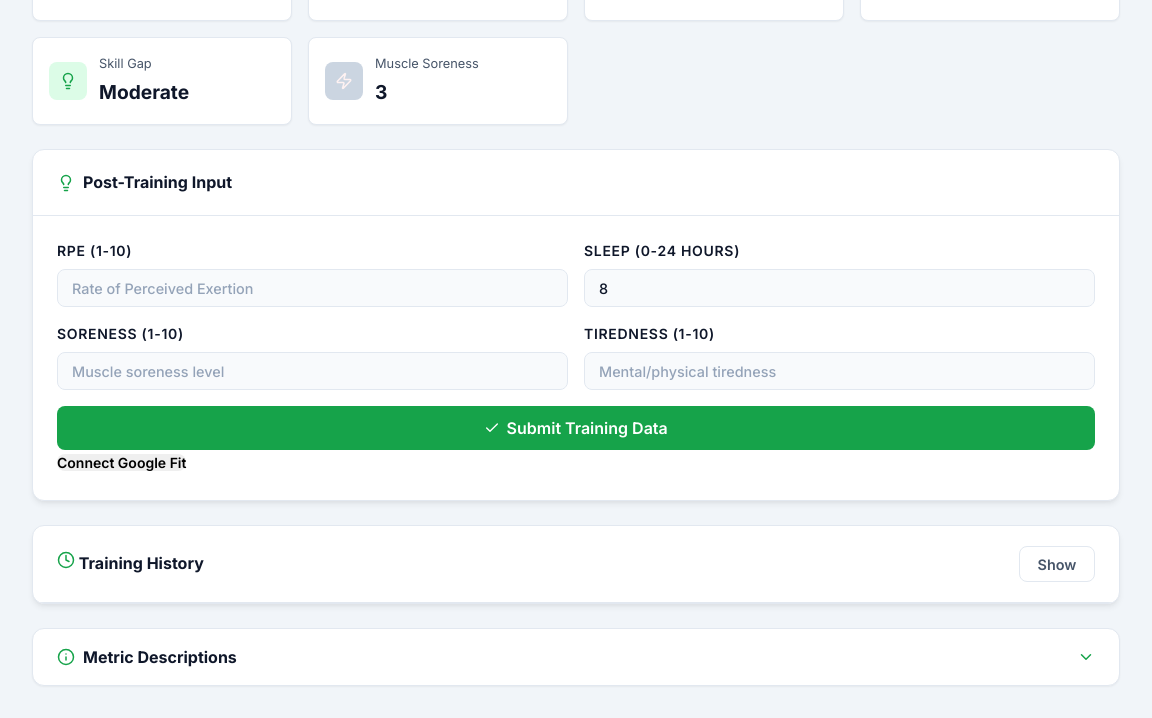
Test: PlayerDashboard › Training History › hides the table again when Hide is clicked
(page scrolled)
What coordinates should you click on to do the following:
click the button "Show"
I would click on:
 (1057, 564)
Its box is [1019,546,1095,582].
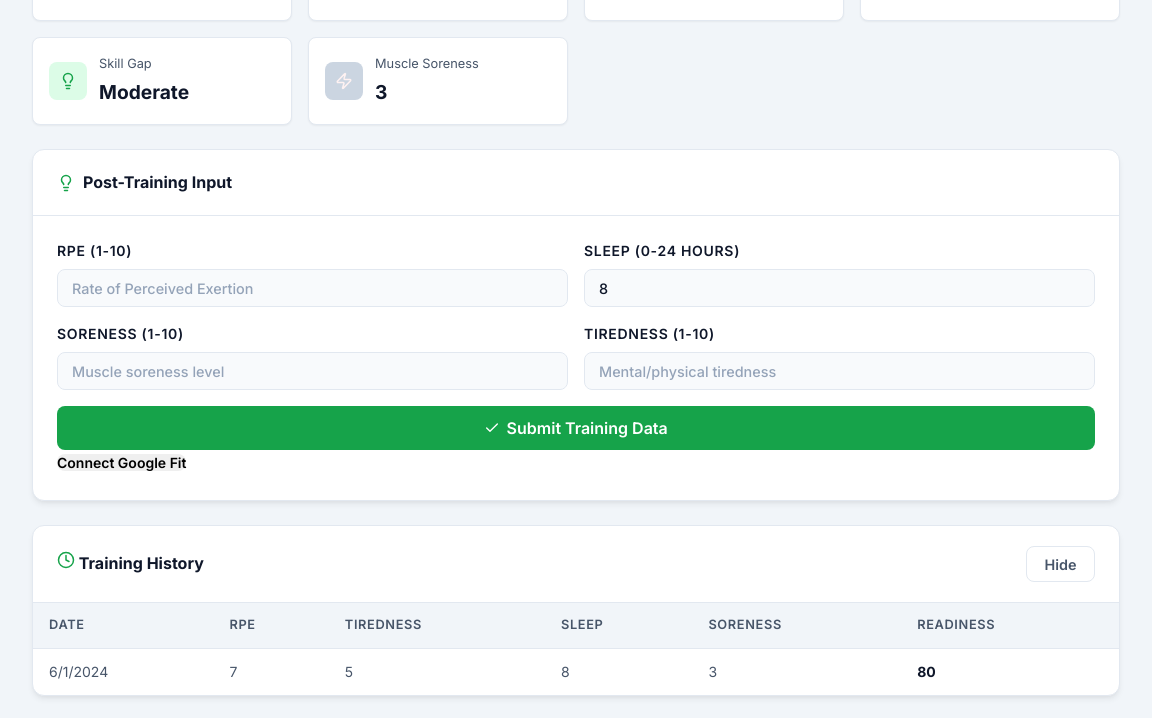
What coordinates should you click on to do the following:
click the button "Hide"
I would click on:
 (1060, 564)
Its box is [1026,546,1095,582].
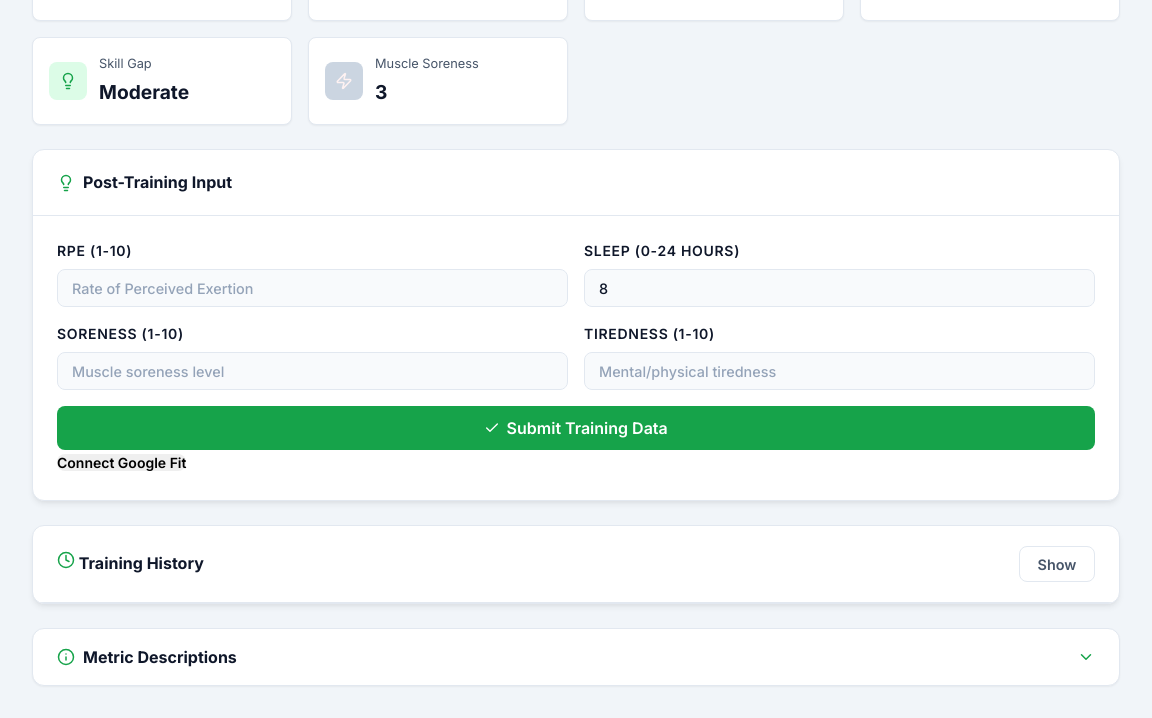
Result: the table is gone
